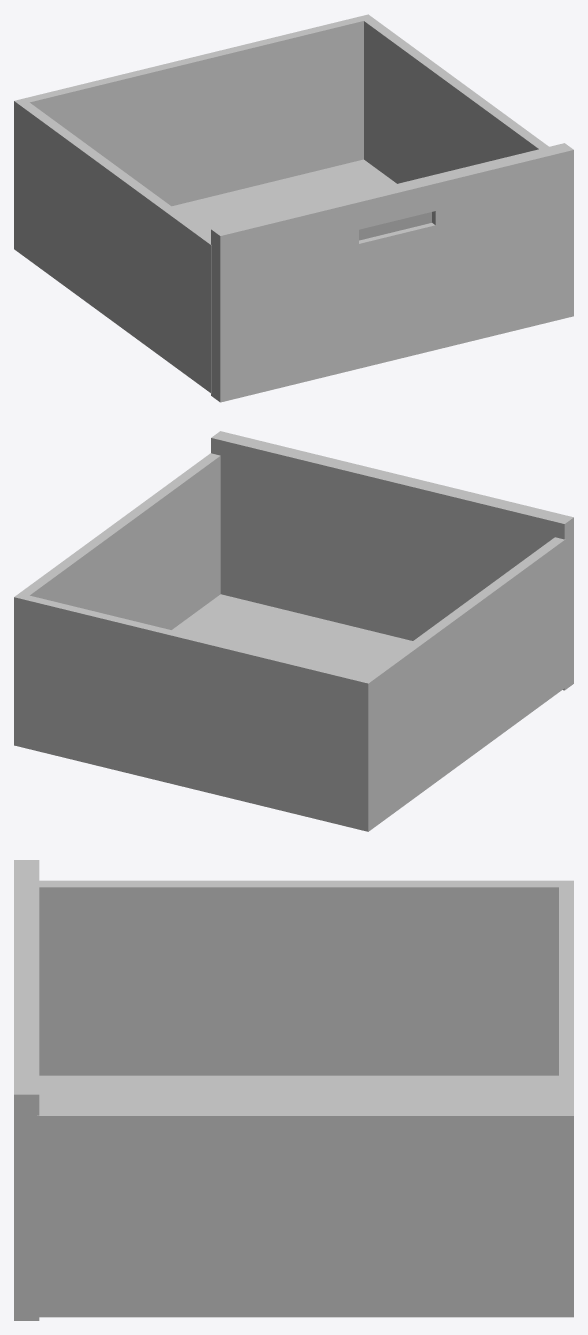
Rendered from Refrigerator1_C2_05.fbx.
3 views of the same model, one above another, from view 1: azimuth 30°, elevation 25°; view 2: azimuth 150°, elevation 25°; view 3: azimuth 270°, elevation 25° (orthographic). The views are drawn at different scales.
Parts seen in each view (by area): view 1: Refrigerator1_C2_05; view 2: Refrigerator1_C2_05; view 3: Refrigerator1_C2_05.
Boxes of the visible parts, x1,y1,x2,y2 form: Refrigerator1_C2_05: (14,14,573,402); Refrigerator1_C2_05: (14,431,573,831); Refrigerator1_C2_05: (14,860,573,1320).
Bounding box in the file's own units: 51.92 × 23.3 × 52.26.
